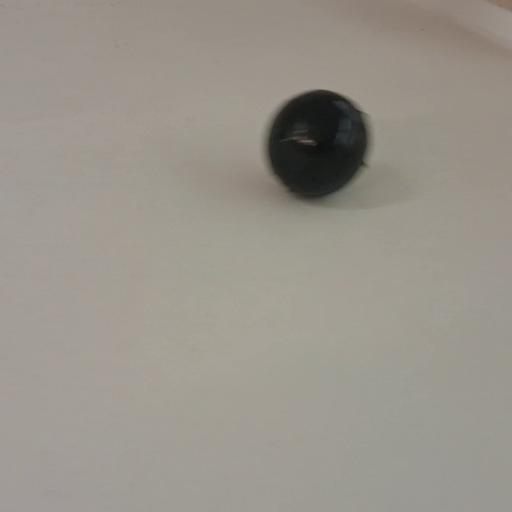dead: (263, 89, 370, 199)
